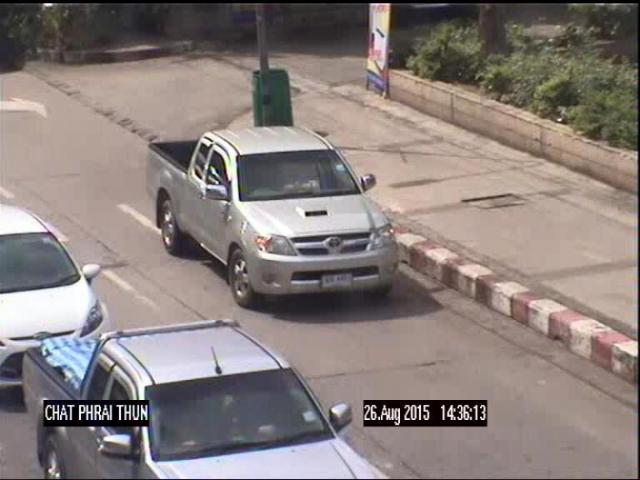pickup-truck: (24, 312, 387, 480), (142, 123, 405, 307)
